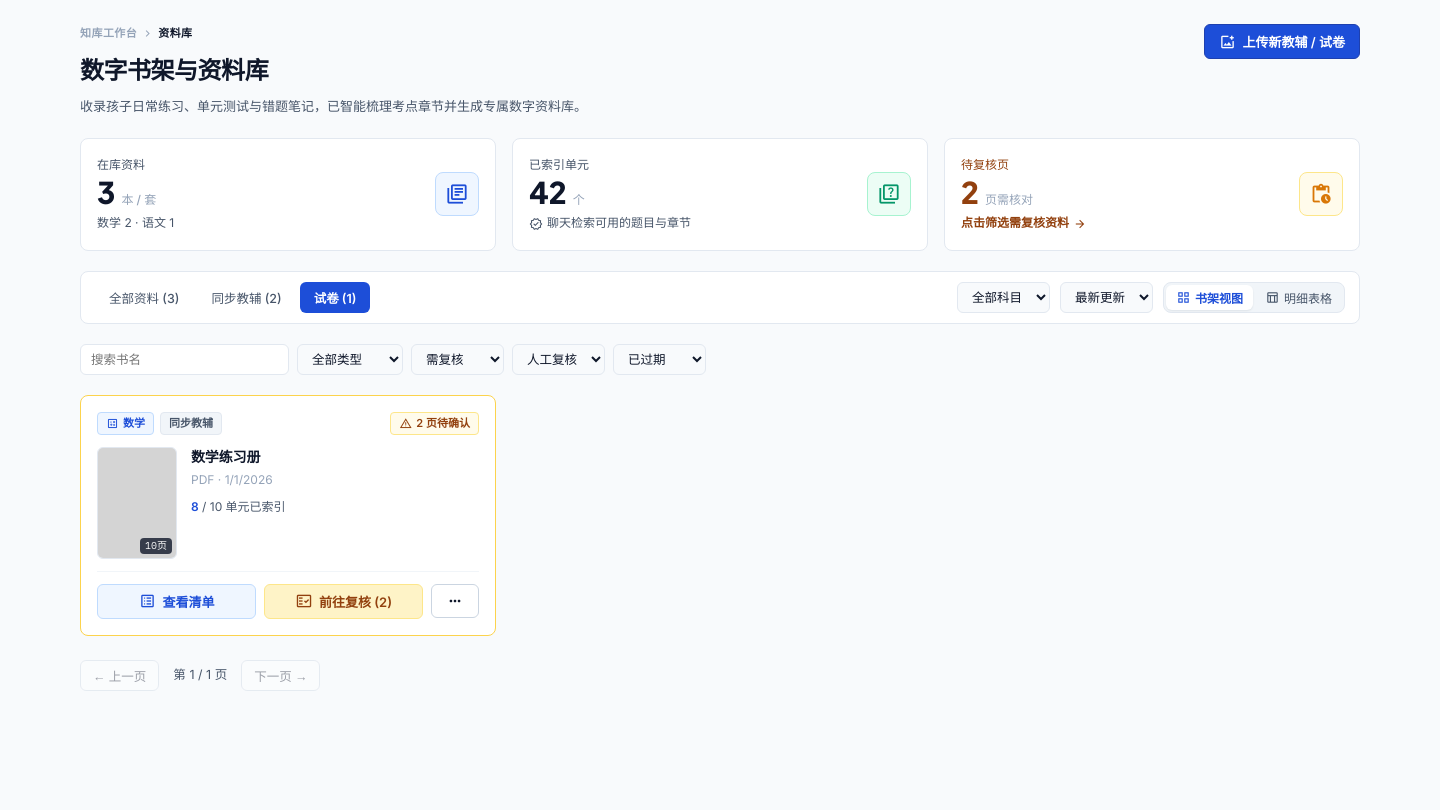
LibraryView › shows card ingestion success feedback
Expected: the button "数学练习册" is shown, [191,446,479,466]
Click the button named "更多操作 数学练习册".
click(455, 601)  # box [431,584,479,618]
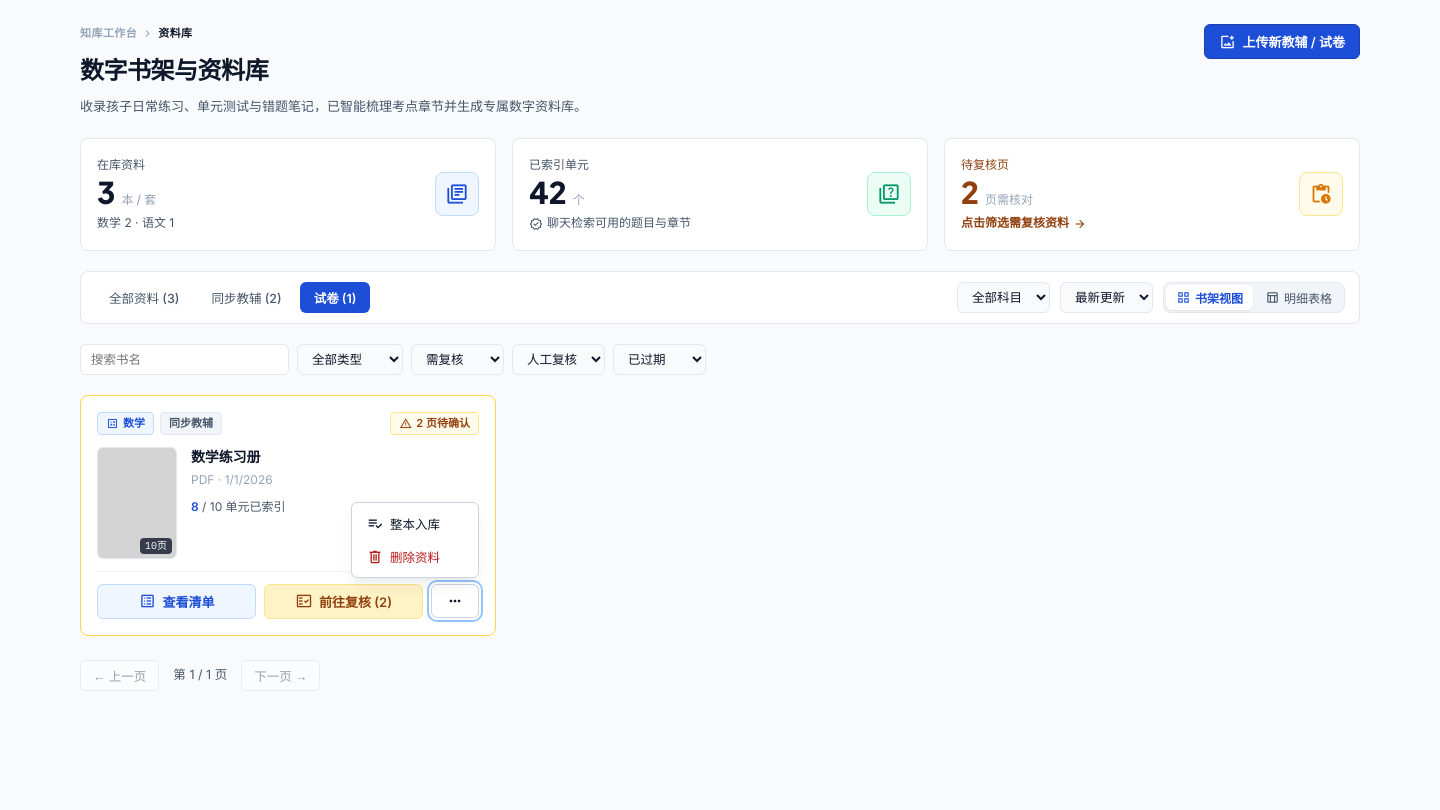
Click the button "整本入库".
click(415, 524)  # box [356,507,474,540]
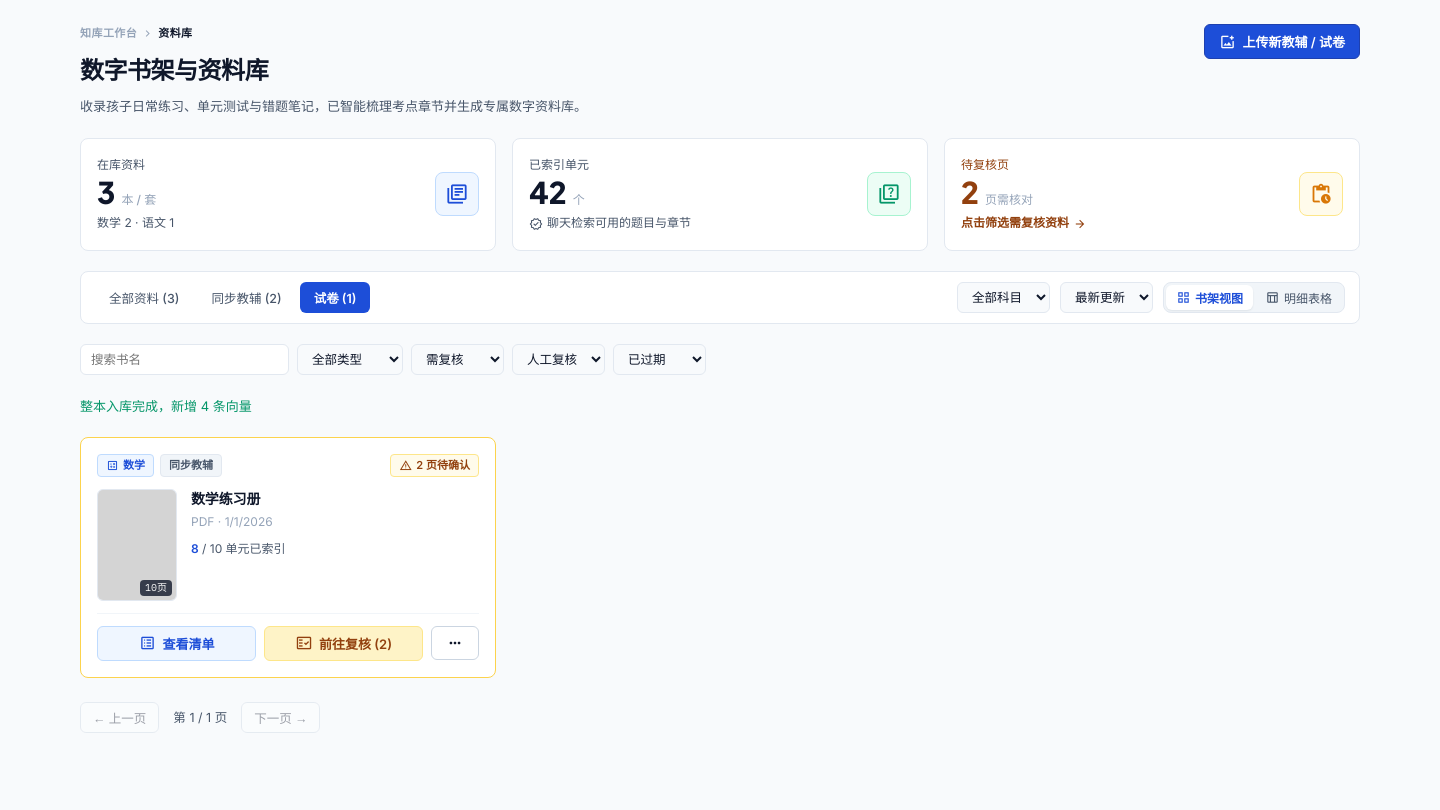
Now the message reads "整本入库完成，新增 4 条向量", box [80,398,252,414]
